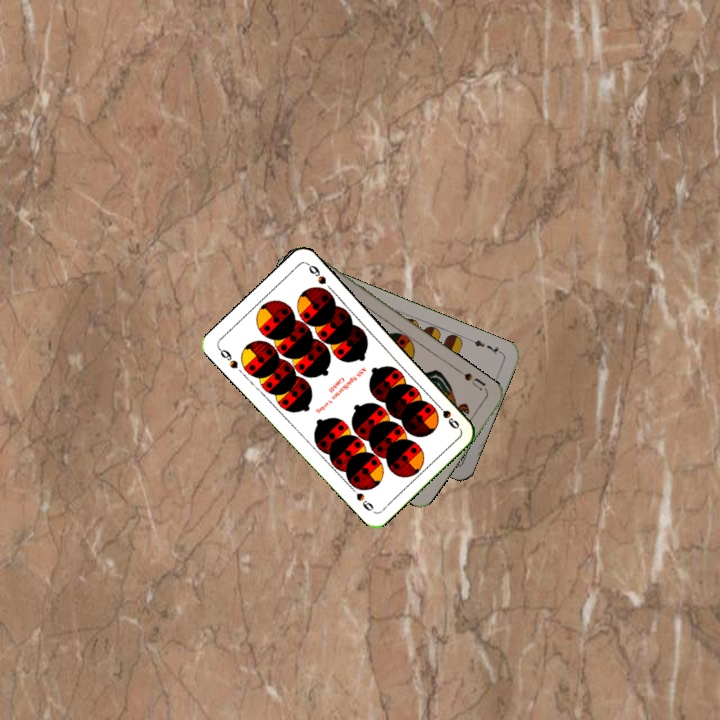E7: (466, 335, 505, 357)
S9: (431, 398, 462, 431), (214, 344, 241, 371)
SU: (460, 368, 490, 395)
